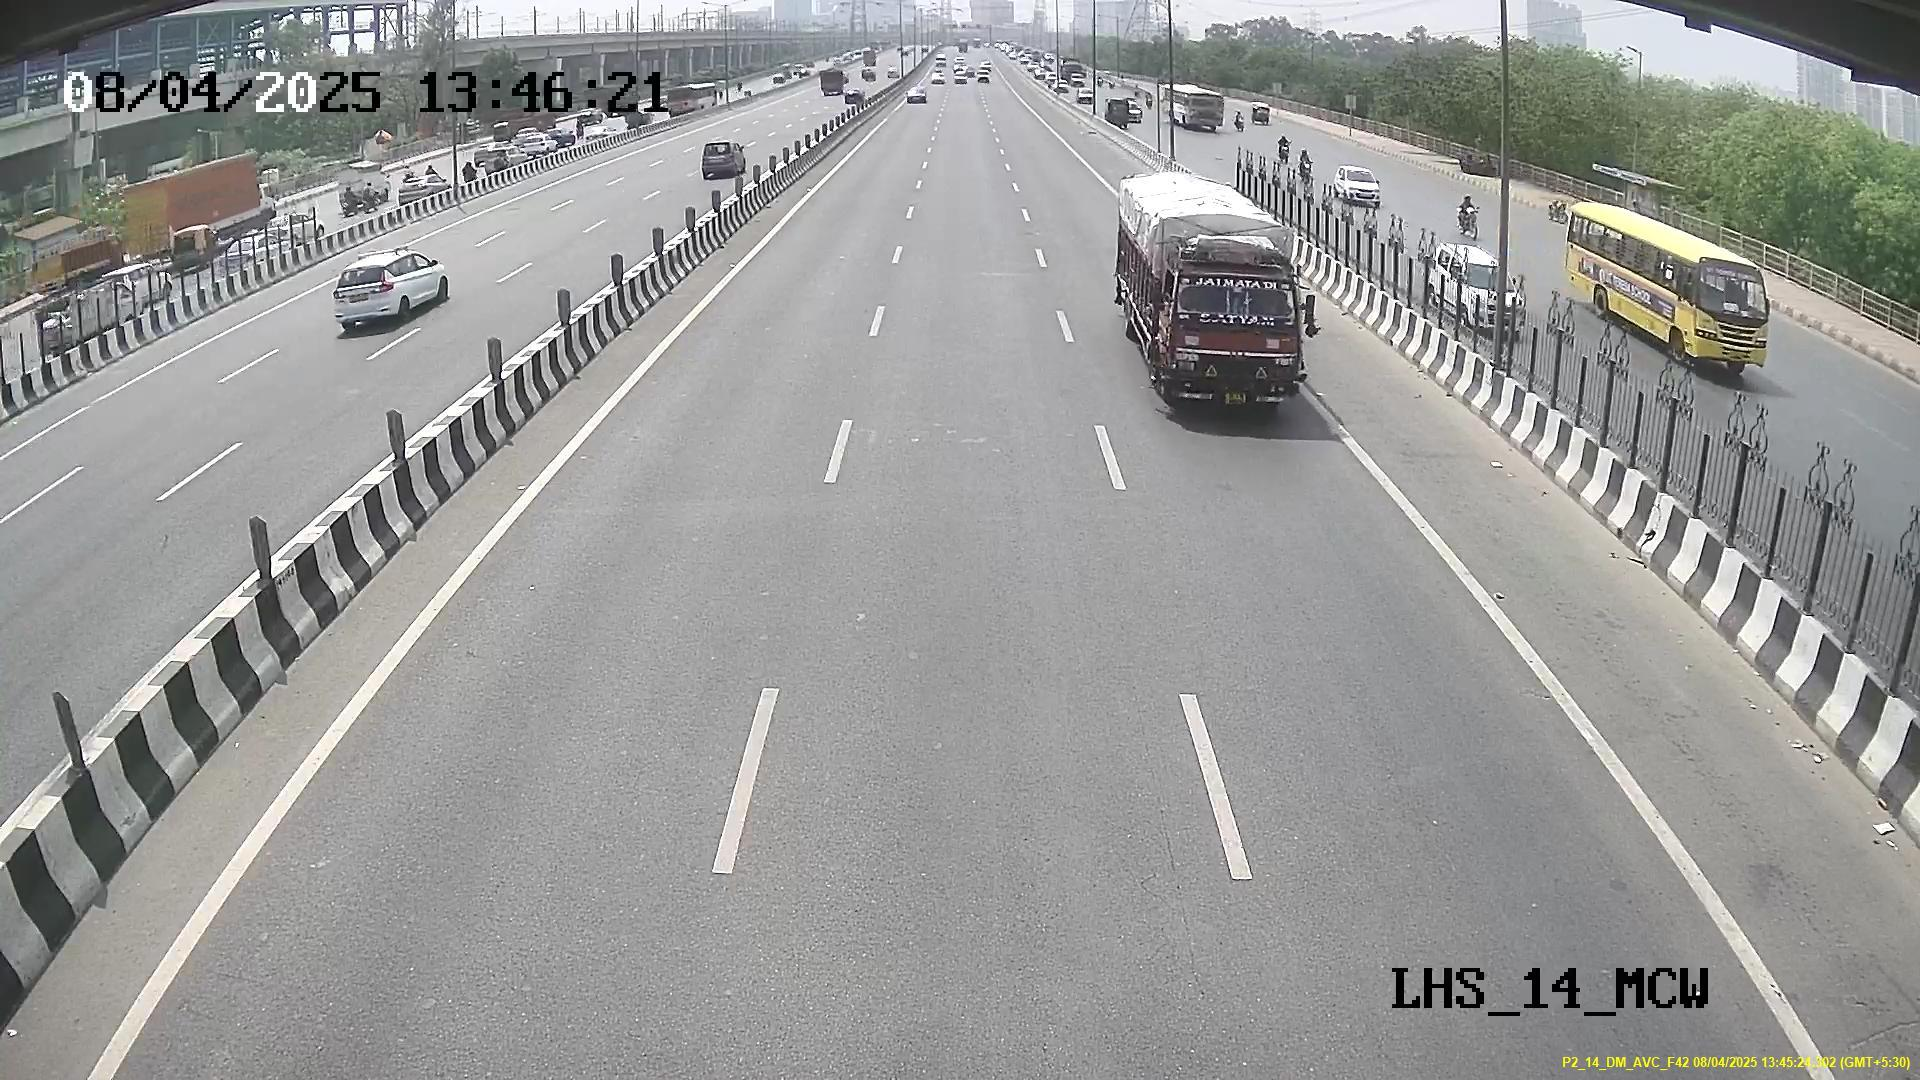lcv: (1156, 260, 1307, 414)
